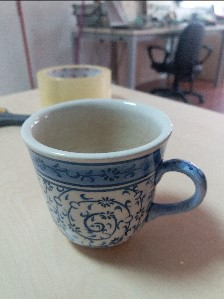cup: (19, 97, 207, 253)
